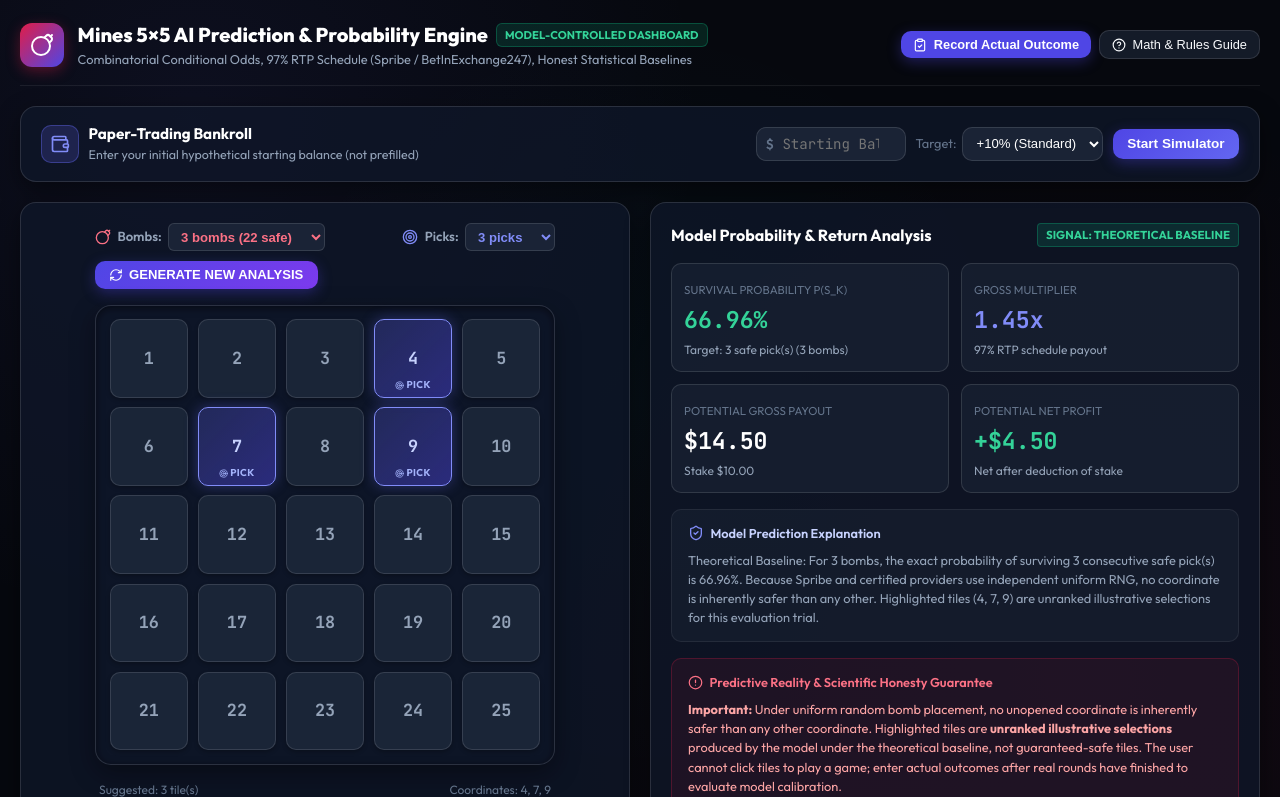
Mines 5x5 UI Workflow and Model-Driven Analysis › Initializing paper bankroll enables live balance and target tracking
Type "250" into the number field with placeholder "Starting Balance" at (831, 144), box [756,127,906,161]
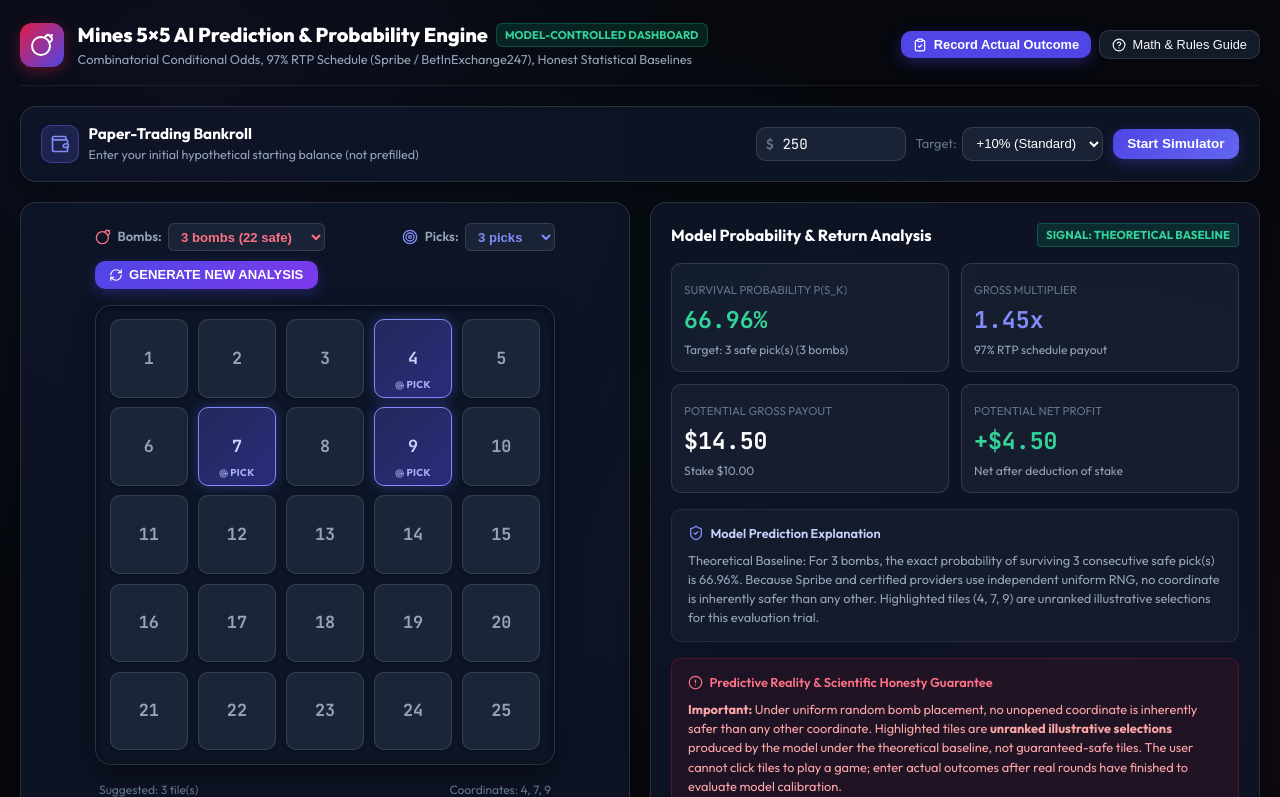
Click the button "Start Simulator" at (1176, 144), box [1113,129,1239,159]
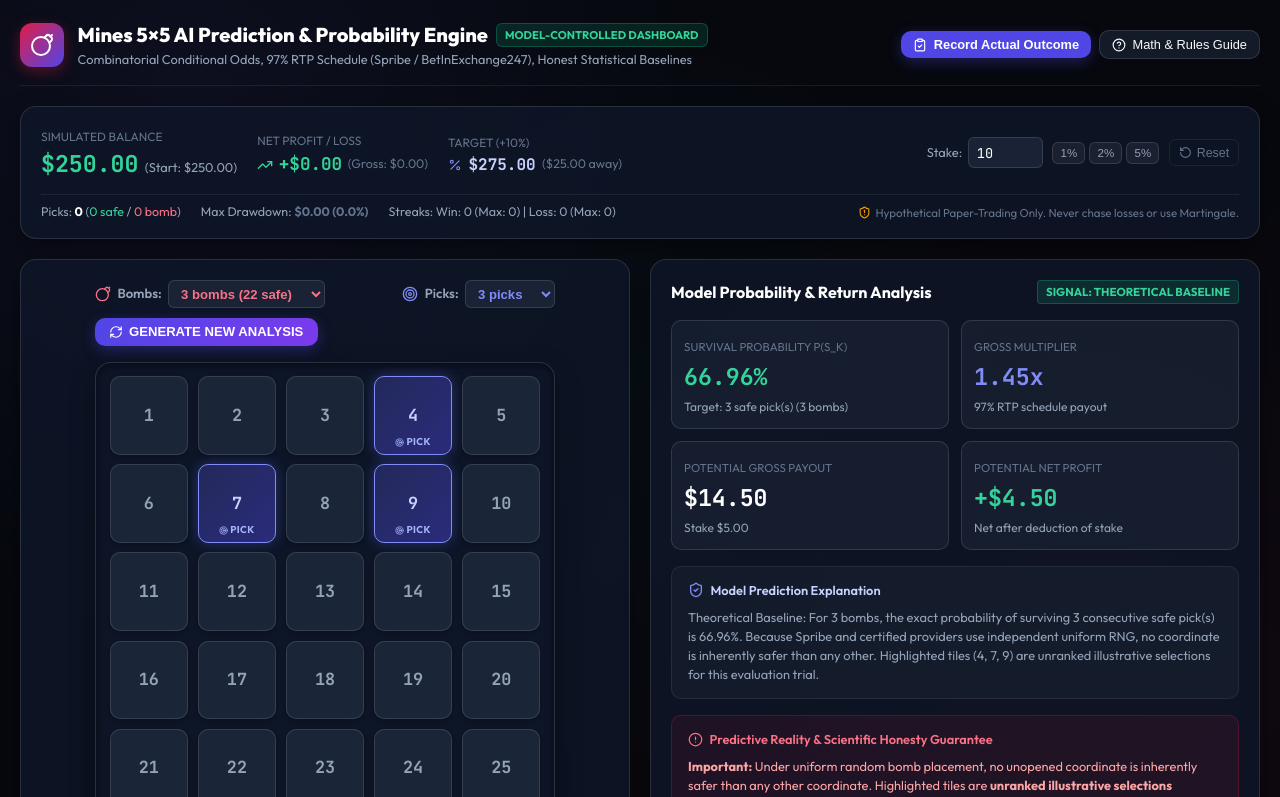
Now the text "$250.00" is shown, box [41,147,138,182]
Now the text "$275.00" is shown, box [468,153,536,177]
